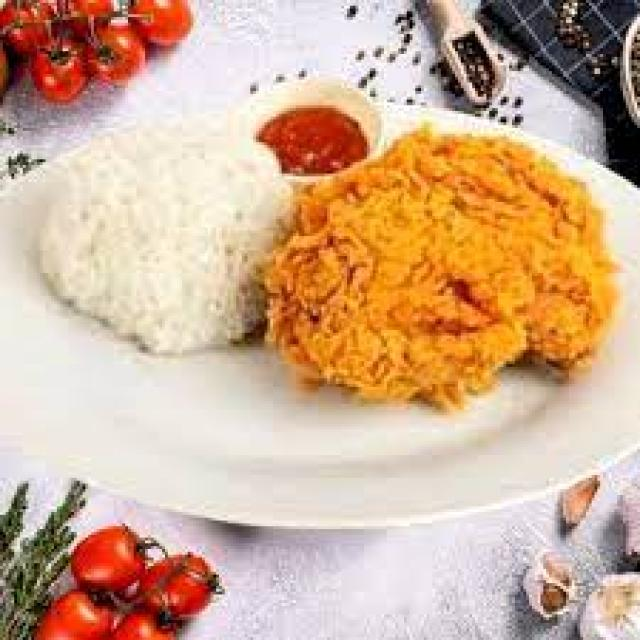Frango: (273, 133, 609, 401)
